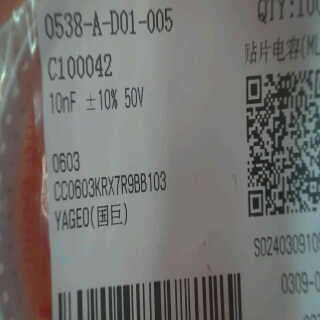10nF: (44, 86, 83, 117)
